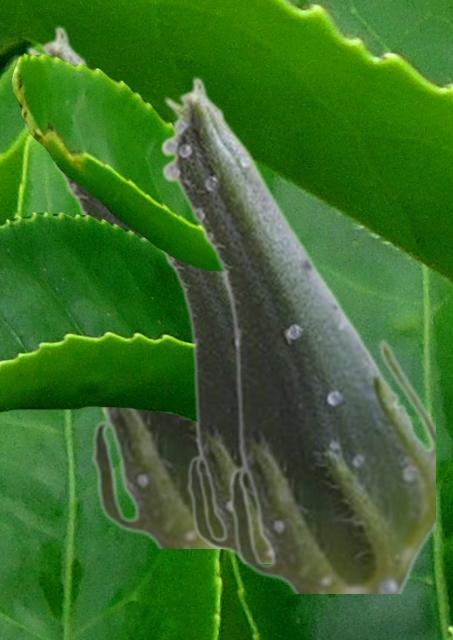okra: (159, 76, 434, 592), (21, 25, 221, 547), (158, 249, 268, 561)
